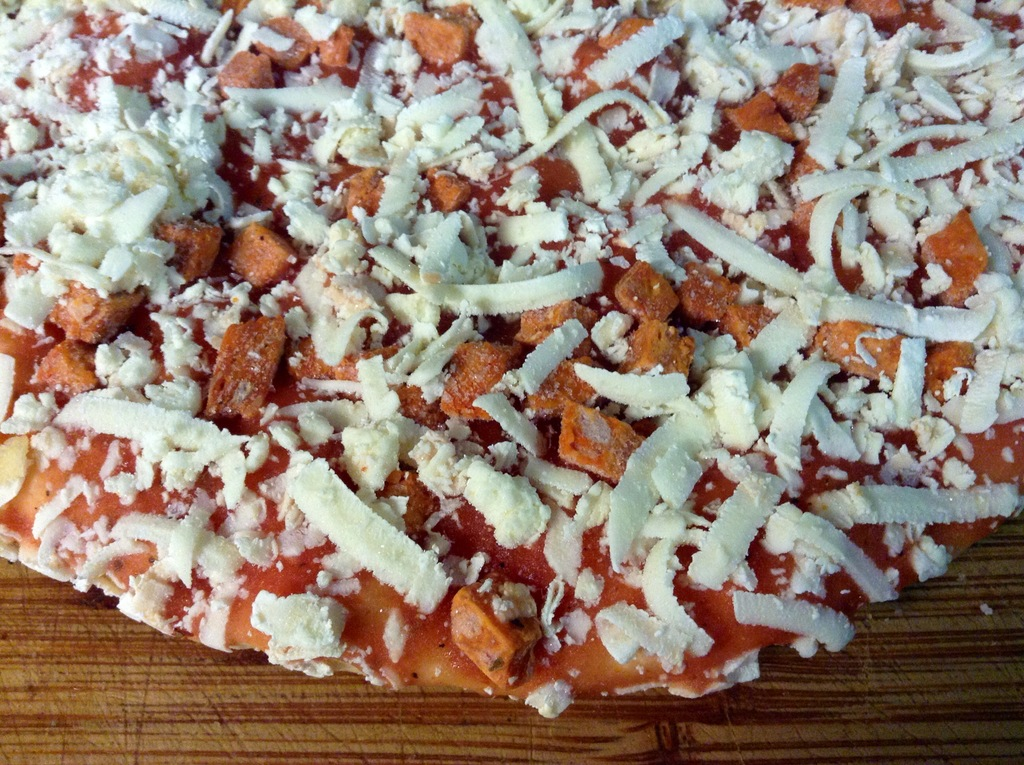Pizza: (0, 24, 987, 731)
